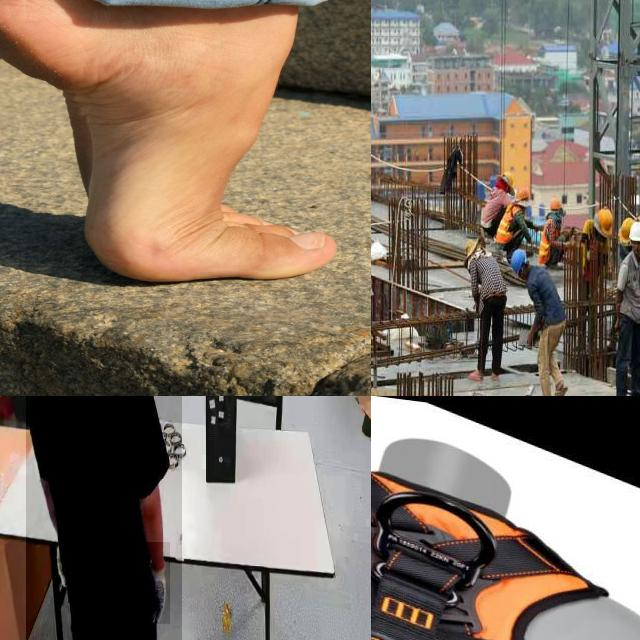Barefoots: (0, 0, 337, 282)
Harness: (371, 471, 608, 640)
hand_glove: (144, 542, 170, 625)
head_helmet: (598, 206, 614, 237), (510, 248, 526, 278), (629, 221, 640, 244), (516, 186, 528, 204), (549, 197, 562, 212)
person: (25, 396, 182, 640), (451, 232, 511, 385), (616, 225, 640, 396)
vest: (496, 203, 522, 243), (540, 216, 556, 266)
